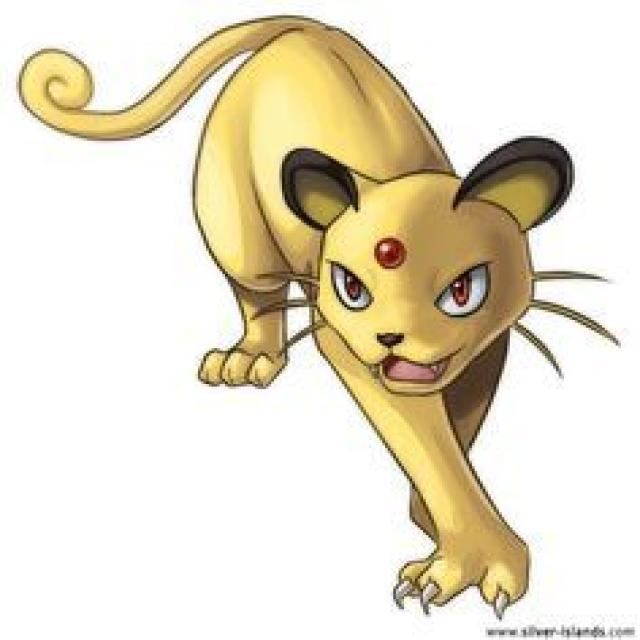Persian: (184, 17, 558, 618)
